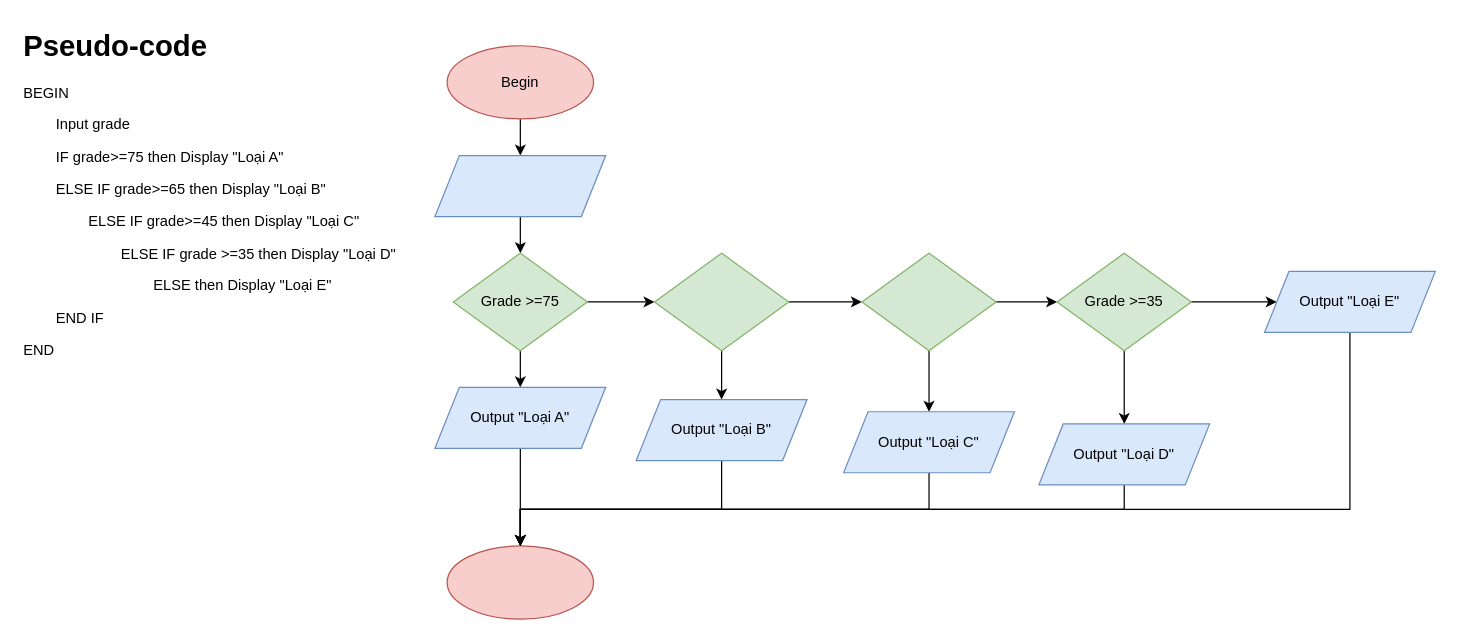
Image size: 1457x641. Some labels were removed from this diagram. Each missing label, with the centre of its shape:
End: the point at 520,582
Grade >=45: the point at 928,301
Grade >=65: the point at 721,301
Input grade: the point at 520,185
